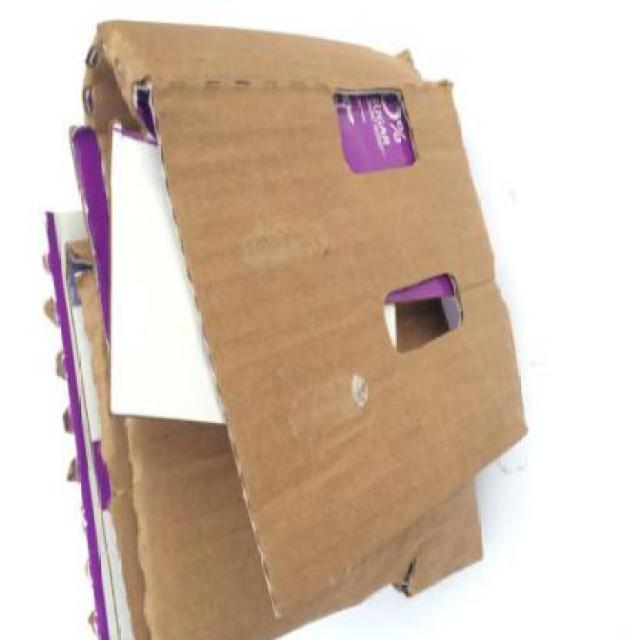box: (35, 0, 537, 640)
